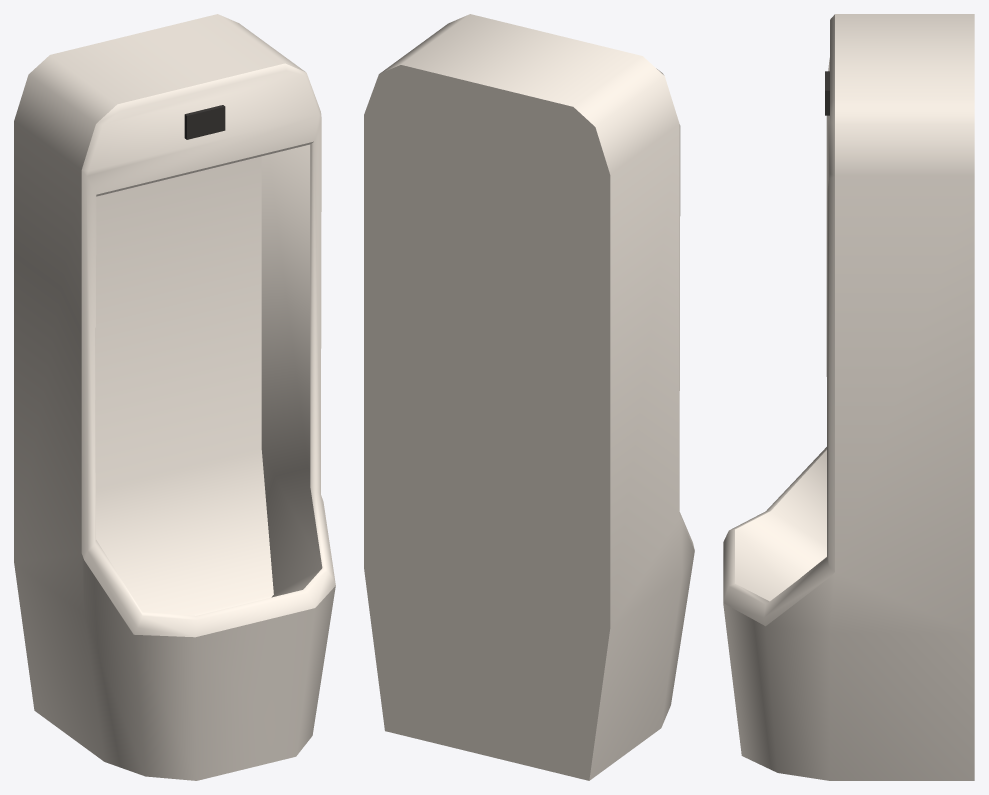
Rendered from toilet2.FBX.
3 renders of one model, left to right at view 1: azimuth 30°, elevation 25°; view 2: azimuth 150°, elevation 25°; view 3: azimuth 270°, elevation 25°, orthographic. The views are drawn at different scales.
Visible parts, largest first — view 1: toilet2; view 2: toilet2; view 3: toilet2.
Part boxes in pixels (bbox=[...]): toilet2: bbox=[14, 14, 335, 780]; toilet2: bbox=[364, 14, 694, 780]; toilet2: bbox=[723, 14, 974, 780].
Size of the model in its own units: 57.29 by 149 by 50.42.
